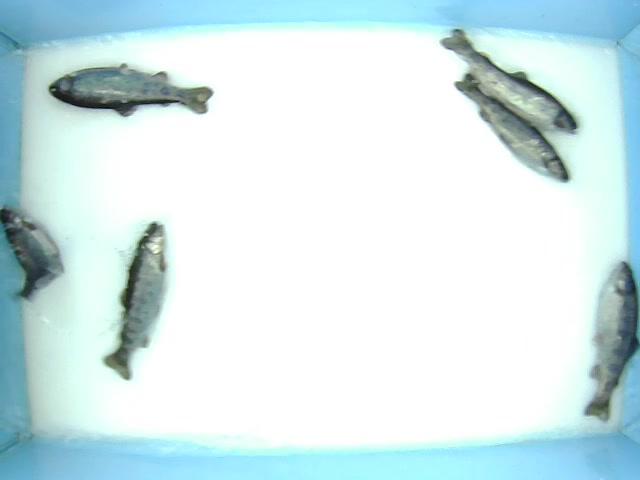fish: (439, 26, 580, 138), (454, 73, 570, 185), (101, 219, 170, 382), (581, 260, 640, 422), (47, 62, 213, 119)
